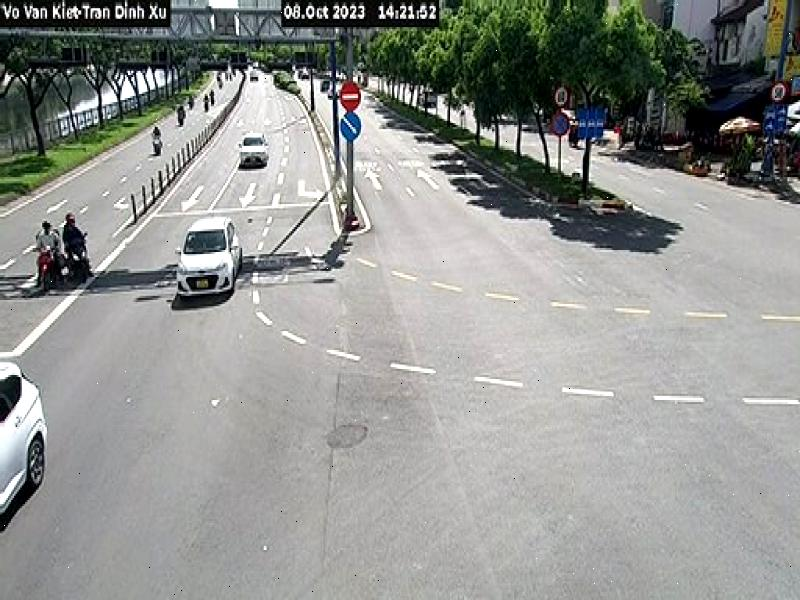car: (0, 357, 50, 519), (177, 215, 242, 305)
